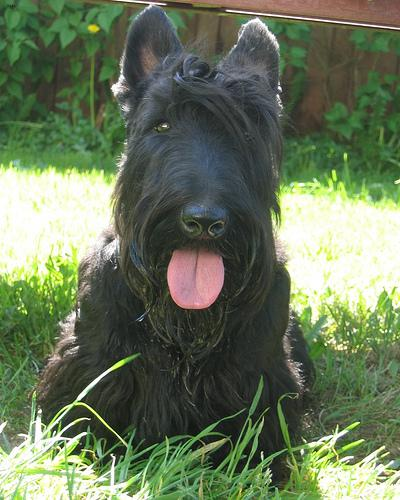dog: (111, 4, 278, 322)
